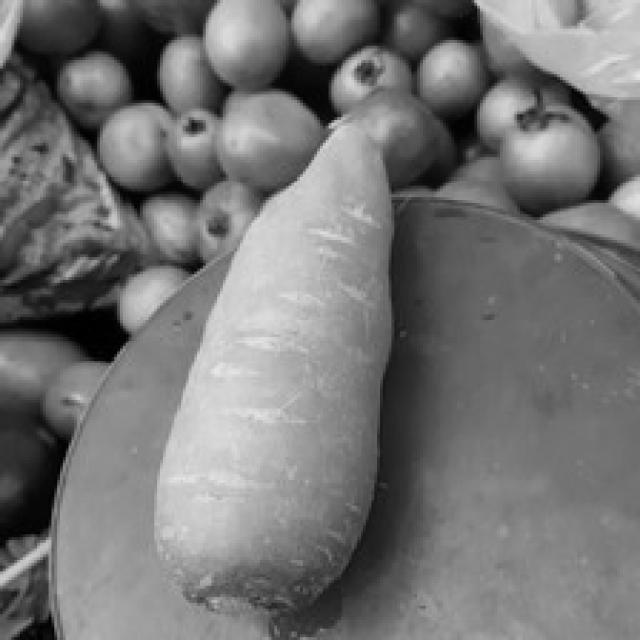Fresh_Carrot: (160, 117, 393, 610)
